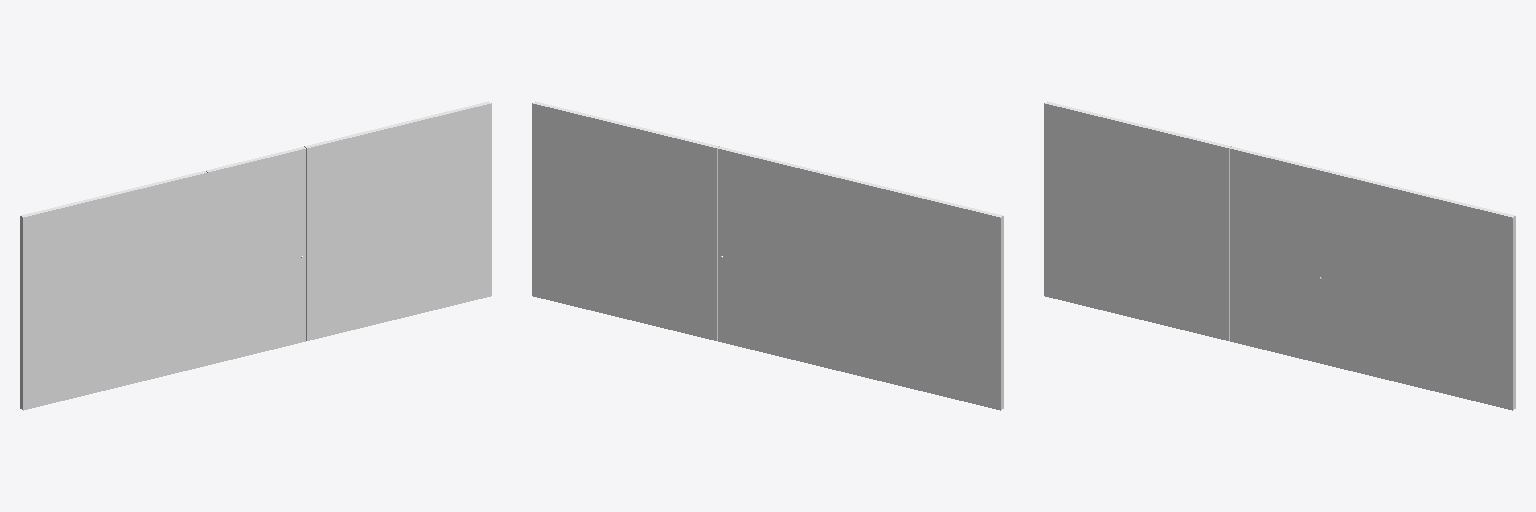
The robot description file, URDF, robot "door":
<robot name="door">
  <link name="base_link"/>
  <link name="door_link">
    <inertial>
      <origin xyz="0.503 0.0025 1" rpy="0 0 0" />
      <mass value="0.6"/>
      <inertia ixx="0.001" ixy="0.0" ixz="0.0"
	       iyy="0.001" iyz="0.0"
	       izz="0.001" />
    </inertial>

    <visual>
      <origin xyz="1 0.075 0.9" rpy="0 0 0" />
      <geometry>
        <sphere radius="0.01"/>
      </geometry>
      <material name="white">
        <color rgba="1 1 1 1"/>
      </material>
    </visual>
    <collision>
      <origin xyz="1 0.075 0.9" rpy="0 0 0" />
      <geometry>
        <sphere radius="0.01"/>
      </geometry>
    </collision>

    <visual>
      <origin xyz="1 -0.025 0.9" rpy="0 0 0" />
      <geometry>
        <sphere radius="0.01"/>
      </geometry>
      <material name="white">
        <color rgba="1 1 1 1"/>
      </material>
    </visual>
    <collision>
      <origin xyz="1 -0.025 0.9" rpy="0 0 0" />
      <geometry>
        <sphere radius="0.01"/>
      </geometry>
    </collision>

    <visual>
      <origin xyz="0.53 0.025 1" rpy="0 0 0" />
      <geometry>
        <box size="1.06 0.05 2"/>
      </geometry>
      <material name="white">
        <color rgba="1 1 1 1"/>
      </material>
    </visual>
    <collision>
      <origin xyz="0.53 0.025 1" rpy="0 0 0" />
      <geometry>
        <box size="1.06 0.05 2"/>
      </geometry>
    </collision>
  </link>
  <joint name="door_joint" type="revolute">
    <limit effort="1" upper="0" lower="-3.14" velocity="1"/>
    <origin rpy="0 0 0" xyz="0 0 0"/>
    <axis xyz="0 0 1"/>
    <child link="door_link"/>
    <parent link="base_link"/>
  </joint>
  <link name="wall1_link">
    <visual>
      <origin xyz="1 0.025 1" rpy="0 0 0" />
      <geometry>
        <box size="2 0.05 2"/>
      </geometry>
      <material name="white">
        <color rgba="1 1 1 1"/>
      </material>
    </visual>
    <collision>
      <origin xyz="1 0.025 1" rpy="0 0 0" />
      <geometry>
        <box size="2 0.05 2"/>
      </geometry>
    </collision>
  </link>
  <link name="wall2_link">
    <visual>
      <origin xyz="1 0.025 1" rpy="0 0 0" />
      <geometry>
        <box size="2 0.05 2"/>
      </geometry>
      <material name="white">
        <color rgba="1 1 1 1"/>
      </material>
    </visual>
    <collision>
      <origin xyz="1 0.025 1" rpy="0 0 0" />
      <geometry>
        <box size="2 0.05 2"/>
      </geometry>
    </collision>
  </link>
  <joint name="wall1_joint" type="fixed">
    <origin rpy="0 0 0" xyz="-2.01 0 0"/>
    <child link="wall1_link"/>
    <parent link="base_link"/>
  </joint>
  <joint name="wall2_joint" type="fixed">
    <origin rpy="0 0 0" xyz="1.07 0 0"/>
    <child link="wall2_link"/>
    <parent link="base_link"/>
  </joint>
</robot>

--- Facts derived from the render (not from the file) ---
3 views of the same robot in one strip: view 1: azimuth 30°, elevation 25°; view 2: azimuth 150°, elevation 25°; view 3: azimuth 330°, elevation 25° (orthographic).
Model door with 4 links and 3 joints (1 revolute, 2 fixed), rooted at base_link, posed all joints at 0.
Visible links, largest first — view 1: wall1_link, wall2_link, door_link; view 2: wall1_link, wall2_link, door_link; view 3: wall2_link, wall1_link, door_link.
Link boxes in pixels (<box>): wall1_link: <box>20,171,207,410</box>; wall2_link: <box>304,101,491,340</box>; door_link: <box>206,147,305,364</box>; wall1_link: <box>816,171,1003,410</box>; wall2_link: <box>532,101,719,340</box>; door_link: <box>718,147,817,364</box>; wall2_link: <box>1328,171,1515,410</box>; wall1_link: <box>1044,101,1231,340</box>; door_link: <box>1230,147,1329,364</box>.
Bounding box of the posed robot: 5.08 × 0.12 × 2 m (x, y, z).
Geometry: primitives only (box / cylinder / sphere), no mesh files.